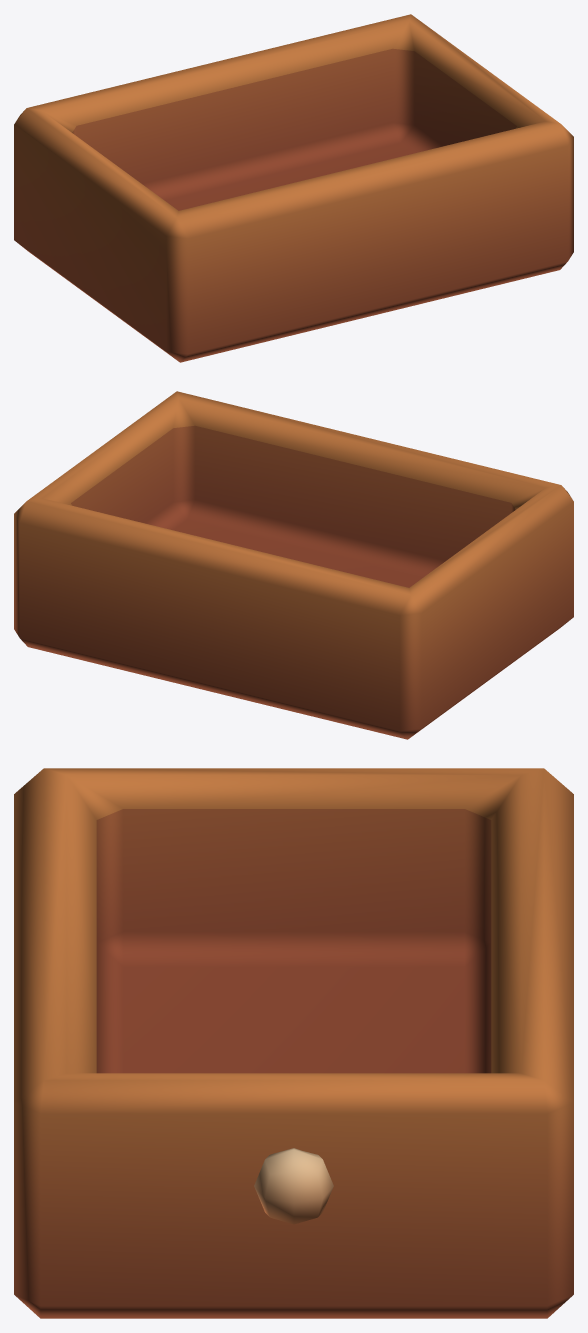
The model's file is Drawer1.fbx.
The picture shows the model from 3 angles, top to bottom: view 1: azimuth 30°, elevation 25°; view 2: azimuth 150°, elevation 25°; view 3: azimuth 270°, elevation 25°; orthographic projection. The views are drawn at different scales.
Visible parts, largest first — view 1: Drawer1; view 2: Drawer1; view 3: Drawer1.
Boxes of the visible parts, bbox=[...] form: Drawer1: bbox=[14, 14, 573, 362]; Drawer1: bbox=[14, 391, 573, 739]; Drawer1: bbox=[14, 768, 573, 1318].
Bounding box in the file's own units: 0.3079 × 0.9805 × 0.6503.
